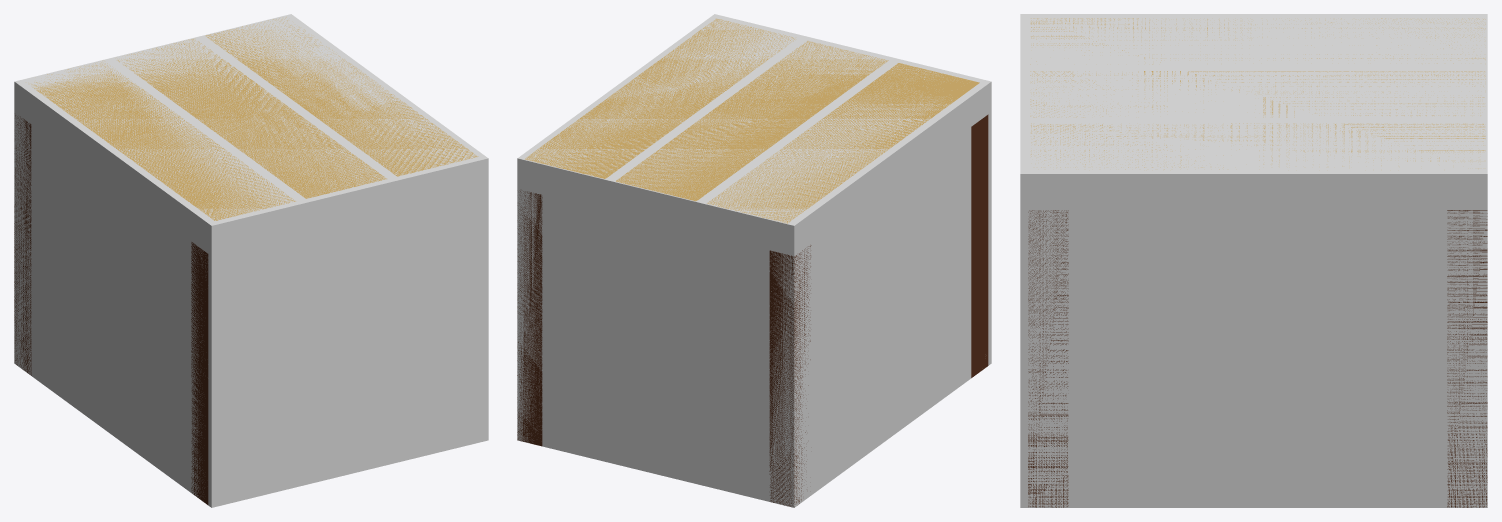
Rendered from crate_box.glb.
The picture shows the model from 3 angles, left to right: view 1: azimuth 30°, elevation 25°; view 2: azimuth 150°, elevation 25°; view 3: azimuth 270°, elevation 25°; orthographic projection. The views are drawn at different scales.
Visible parts, largest first — view 1: prop_crate_box_col, prop_crate_box_lod0; view 2: prop_crate_box_col, prop_crate_box_lod0; view 3: prop_crate_box_col, prop_crate_box_lod0.
Part boxes in pixels (x1,y1,x2,y2): prop_crate_box_col: (14, 14, 488, 507); prop_crate_box_lod0: (14, 17, 478, 504); prop_crate_box_col: (517, 14, 991, 507); prop_crate_box_lod0: (517, 18, 988, 507); prop_crate_box_col: (1020, 14, 1487, 507); prop_crate_box_lod0: (1028, 18, 1487, 507).
Size of the model in its own units: 0.714 by 0.695 by 0.8809.
